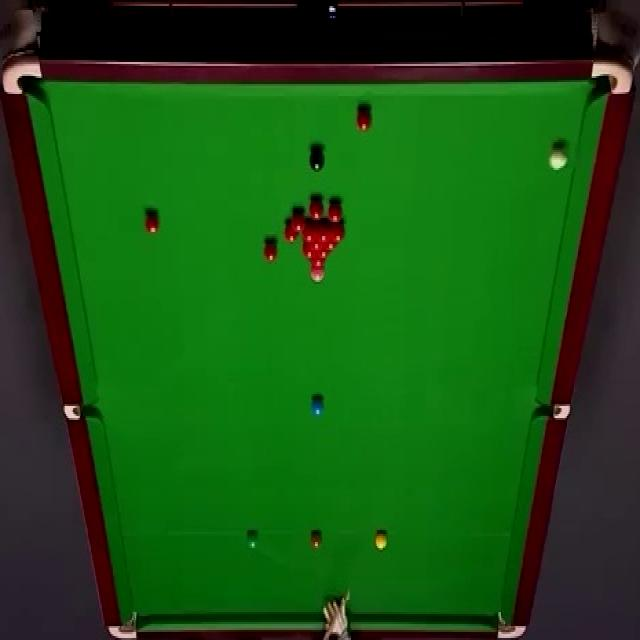black-ball: (308, 146, 324, 172)
blue-ball: (311, 397, 324, 416)
brown-ball: (310, 530, 323, 549)
green-ball: (247, 530, 260, 550)
pink-ball: (311, 272, 325, 284)
red-ball: (144, 209, 160, 237), (357, 108, 372, 133), (301, 220, 316, 243), (310, 197, 324, 221), (263, 240, 277, 264), (328, 200, 343, 222), (331, 222, 346, 244), (284, 220, 298, 243), (292, 210, 306, 232), (317, 222, 331, 244), (302, 244, 315, 260), (310, 260, 328, 270), (316, 250, 332, 260), (308, 243, 324, 251), (324, 242, 338, 251)
white-ball: (548, 143, 568, 172)
yellow-ball: (376, 531, 388, 549)
